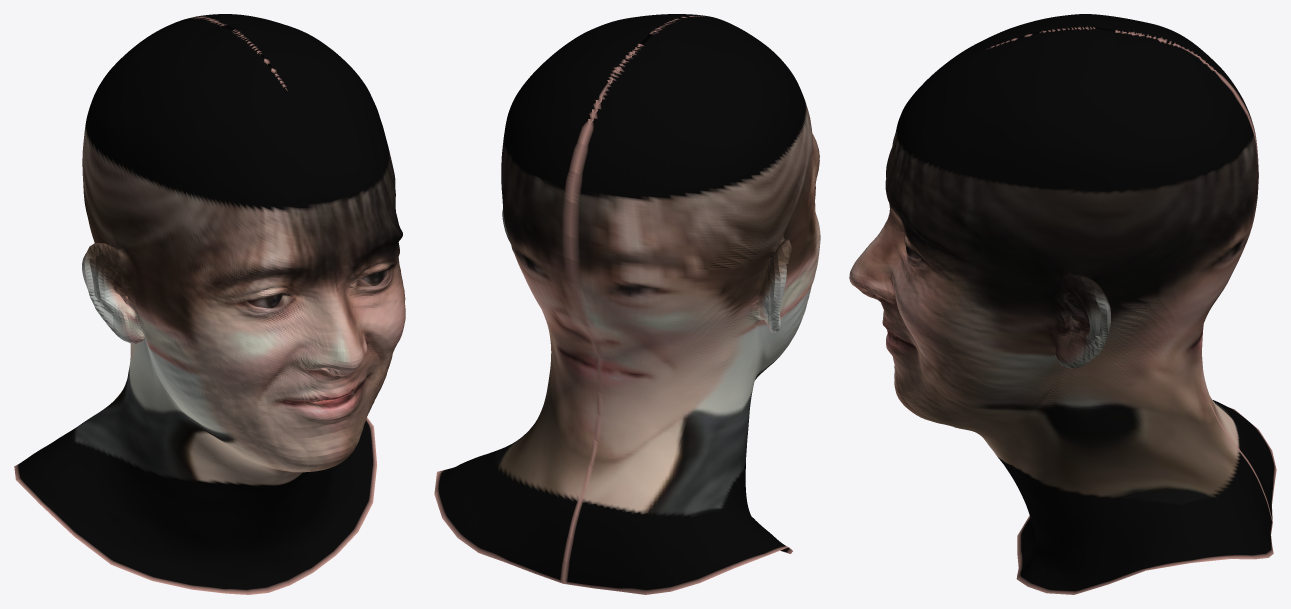
The model's file is mesh_coarse_detail.obj.
3 views of the same model, side by side, from view 1: azimuth 30°, elevation 25°; view 2: azimuth 150°, elevation 25°; view 3: azimuth 270°, elevation 25° (orthographic).
Bounding box in the file's own units: 0.2133 × 0.324 × 0.2317.
